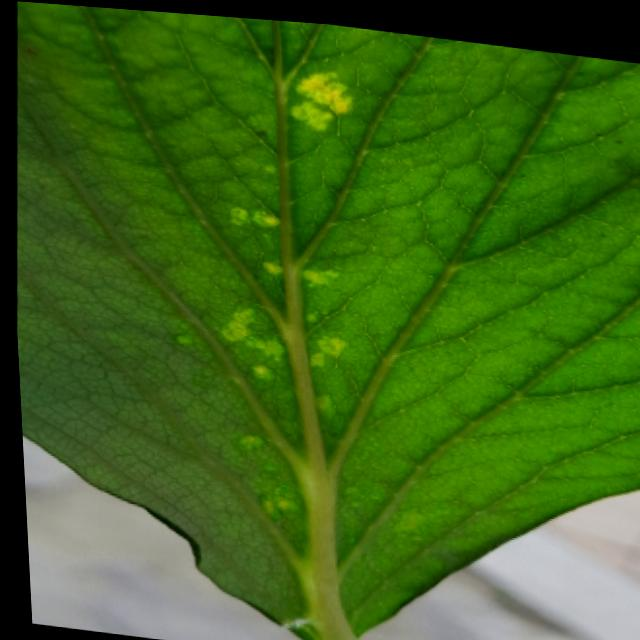Angular Leafspot: (159, 14, 360, 529)
